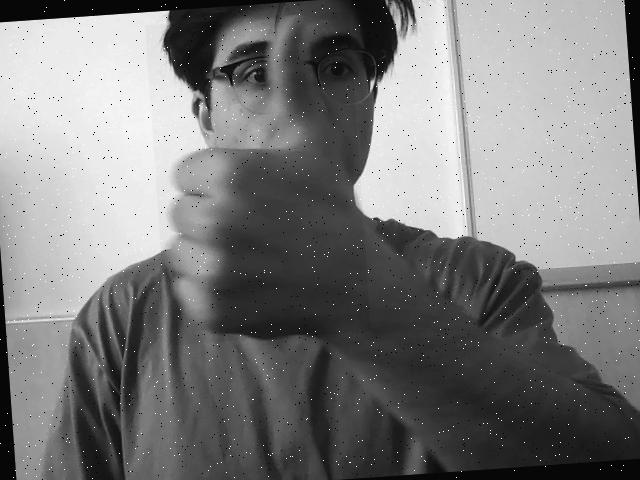good: (162, 15, 365, 335)
